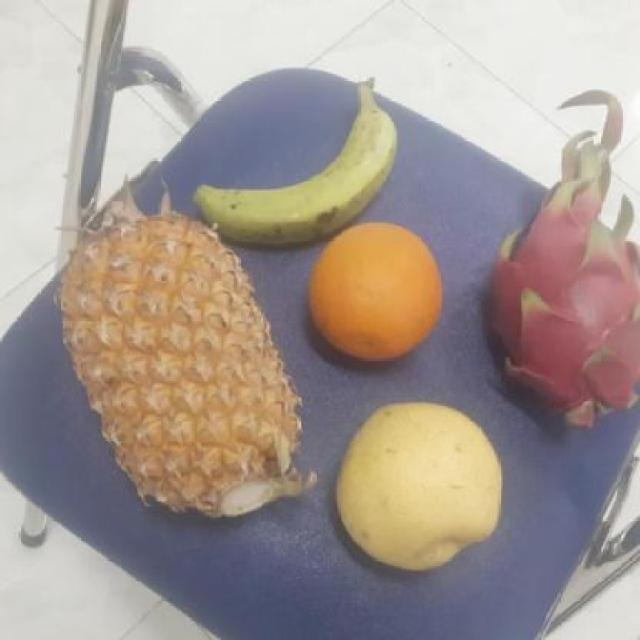banana: (194, 80, 394, 242)
dragon fruit: (475, 176, 639, 436)
guava: (332, 401, 506, 568)
oren: (298, 217, 452, 361)
pineapple: (52, 214, 312, 518)
